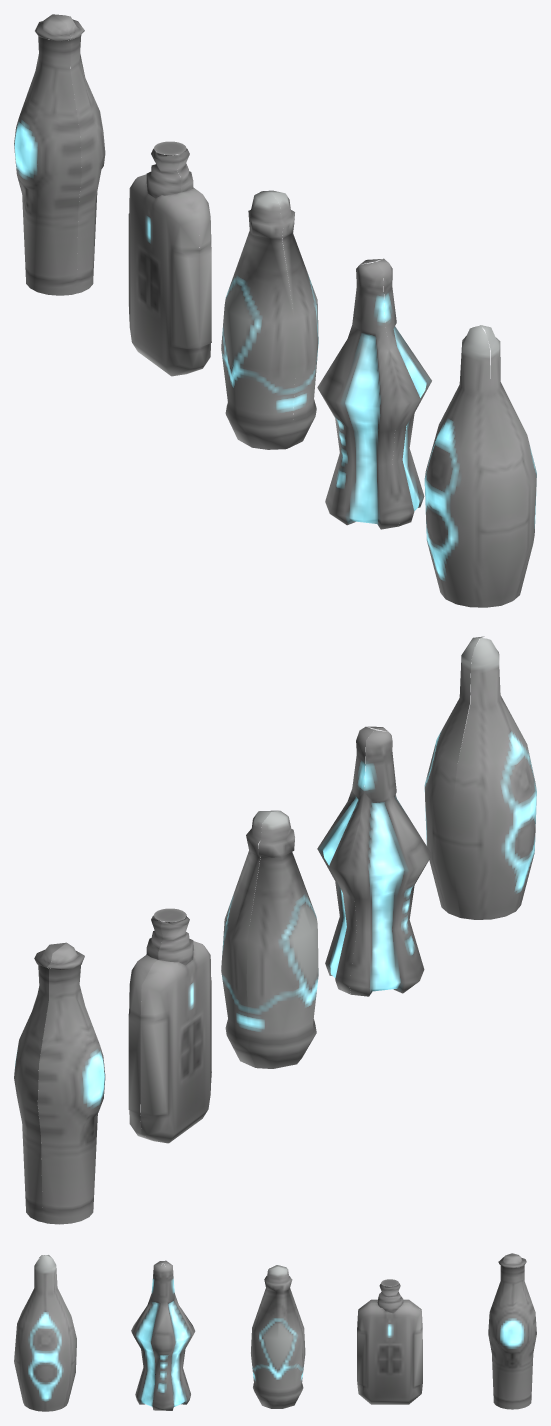
Rendered from bar_bottles_2_b.glb.
3 views of the same model, one above another, from view 1: azimuth 30°, elevation 25°; view 2: azimuth 150°, elevation 25°; view 3: azimuth 270°, elevation 25° (orthographic). The views are drawn at different scales.
Visible parts, largest first — view 1: bar_bottles_2; view 2: bar_bottles_2; view 3: bar_bottles_2.
Boxes of the visible parts, x1,y1,x2,y2 form: bar_bottles_2: [14, 14, 536, 607]; bar_bottles_2: [14, 636, 536, 1224]; bar_bottles_2: [14, 1253, 536, 1411].
Size of the model in its own units: 0.1329 by 0.3335 by 1.07.
1 material, 1 textured.
